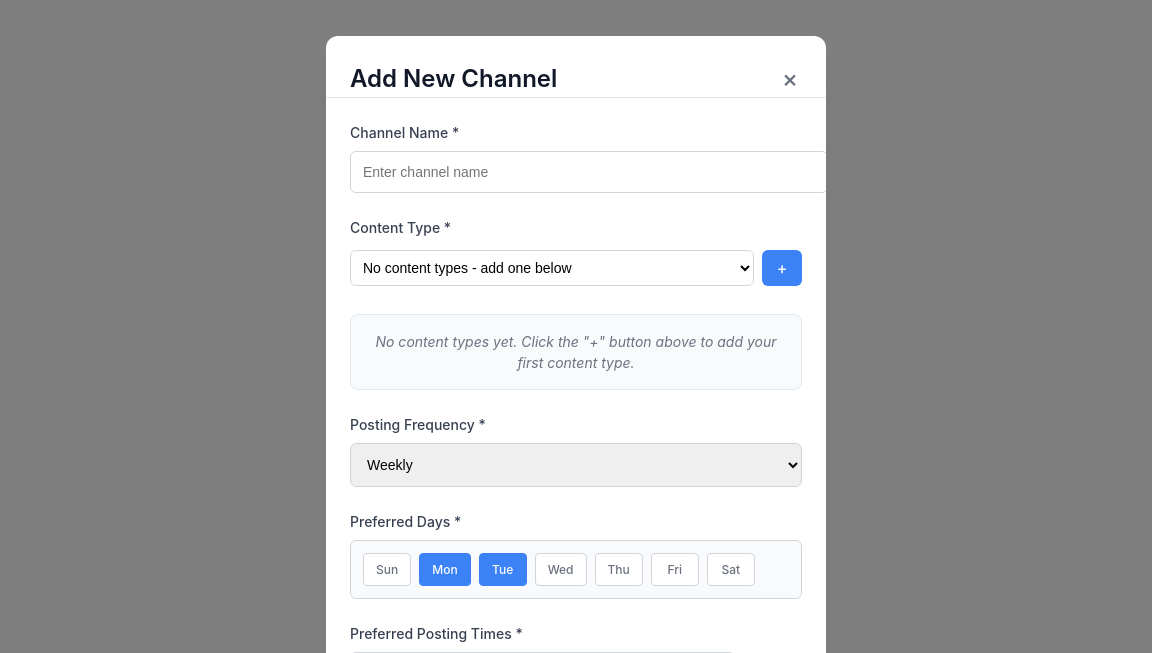
Test: AddChannelModal › should hide preferred days for daily frequency
# Select daily frequency
Select "Daily" in the dropdown labelled "Posting Frequency *": (576, 465) [350,443,802,487]
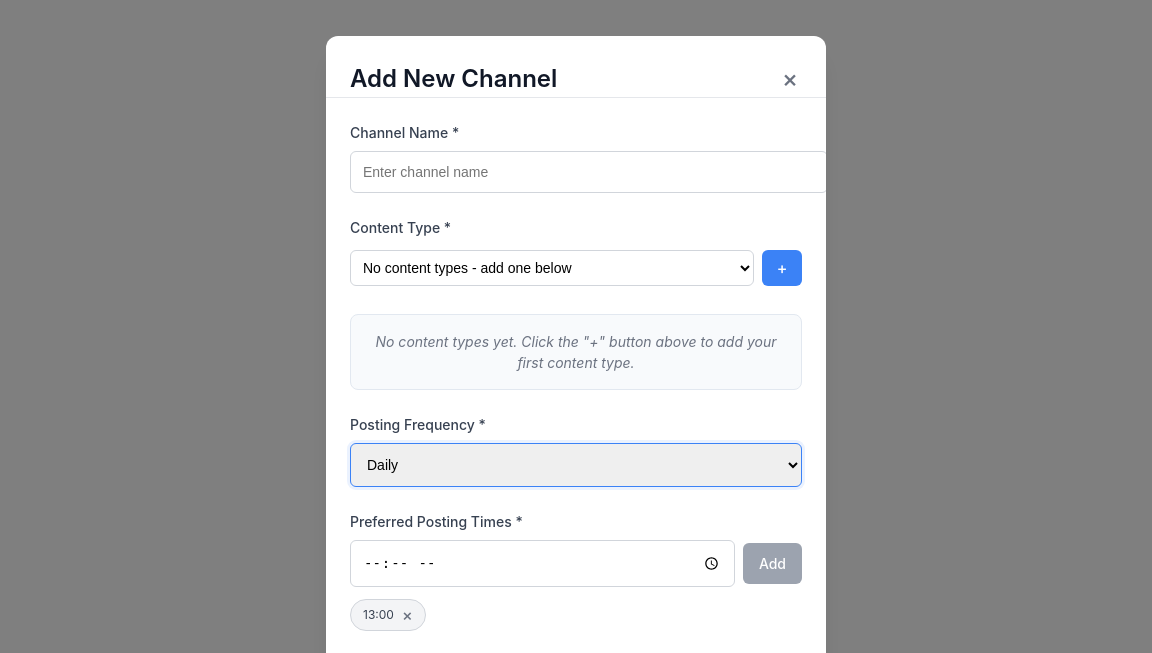
expect the text "Preferred Days *" is gone: met
